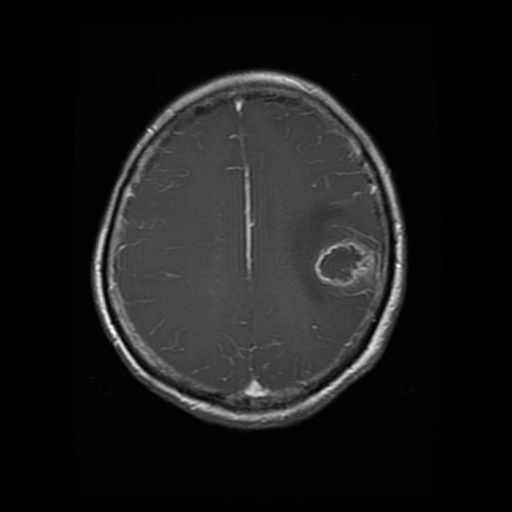glioma: (293, 202, 380, 302)
